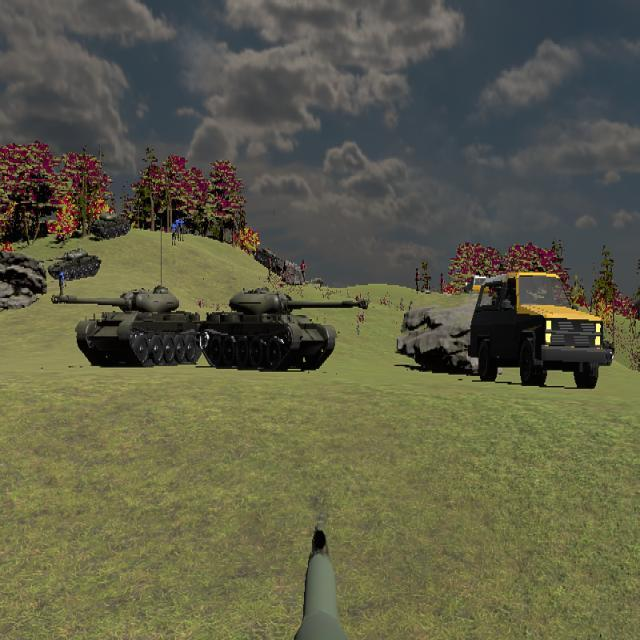Tank: (200, 287, 367, 372), (52, 284, 204, 367), (36, 247, 102, 281), (91, 211, 132, 240)
car: (470, 271, 614, 386)
